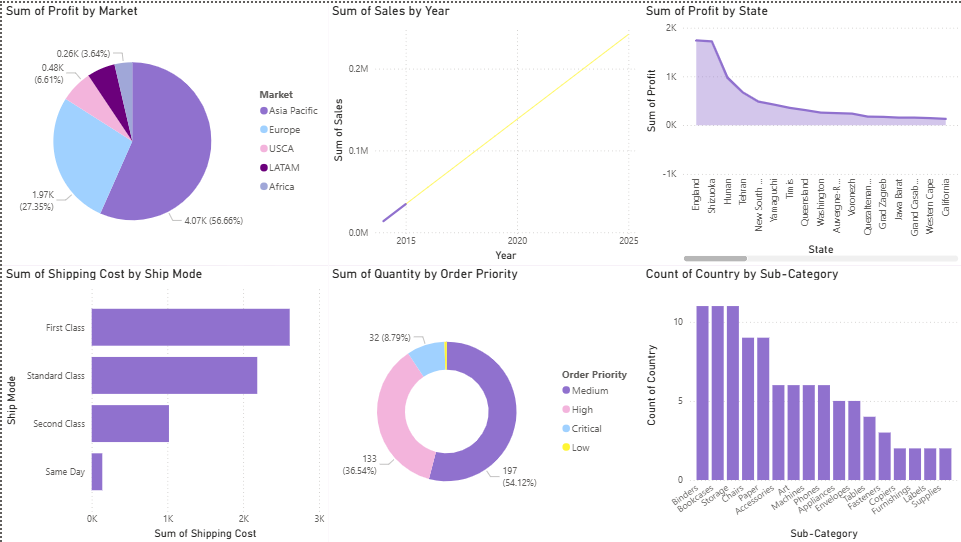

This screenshot's page, from the dashboard's own definition file:
{"tool":"powerbi","page":{"name":"Page 1","canvas":[1280,720],"ordinal":0},"visuals":[{"type":"pieChart","fields":{"Category":["Global_Superstore_100.Market"],"Y":["Sum(Global_Superstore_100.Profit)"]},"box":[0,0,435,349.9],"z":0},{"type":"lineChart","fields":{"Category":["Global_Superstore_100.Order Date.Variation.Date Hierarchy.Year","Global_Superstore_100.Order Date.Variation.Date Hierarchy.Quarter","Global_Superstore_100.Order Date.Variation.Date Hierarchy.Month","Global_Superstore_100.Order Date.Variation.Date Hierarchy.Day"],"Y":["Sum(Global_Superstore_100.Sales)"]},"box":[435,0,418.5,349.9],"z":1000},{"type":"barChart","fields":{"Category":["Global_Superstore_100.Ship Mode"],"Y":["Sum(Global_Superstore_100.Shipping Cost)"]},"box":[0,349.9,435,370.5],"z":2000},{"type":"stackedAreaChart","fields":{"Y":["Sum(Global_Superstore_100.Profit)"],"Category":["Global_Superstore_100.State"]},"box":[853.5,0,426.8,349.9],"z":3000},{"type":"donutChart","fields":{"Category":["Global_Superstore_100.Order Priority"],"Y":["Sum(Global_Superstore_100.Quantity)"]},"box":[435,349.9,418.5,370.5],"z":4000},{"type":"columnChart","fields":{"Category":["Global_Superstore_100.Sub-Category"],"Y":["CountNonNull(Global_Superstore_100.Country)"]},"box":[854,350,426,370],"z":5000}]}

Visuals, with their boxes in screenshot pixels (x1, y1, x2, y2), scaled from the page's 1280x720 canvas onto the 961x542 screenshot:
pieChart - Global_Superstore_100.Market x Sum(Global_Superstore_100.Profit): crop(0, 0, 327, 263)
lineChart - Global_Superstore_100.Order Date.Variation.Date Hierarchy.Year x Global_Superstore_100.Order Date.Variation.Date Hierarchy.Quarter: crop(327, 0, 641, 263)
barChart - Global_Superstore_100.Ship Mode x Sum(Global_Superstore_100.Shipping Cost): crop(0, 263, 327, 541)
stackedAreaChart - Sum(Global_Superstore_100.Profit) x Global_Superstore_100.State: crop(641, 0, 960, 263)
donutChart - Global_Superstore_100.Order Priority x Sum(Global_Superstore_100.Quantity): crop(327, 263, 641, 541)
columnChart - Global_Superstore_100.Sub-Category x CountNonNull(Global_Superstore_100.Country): crop(641, 263, 960, 541)
